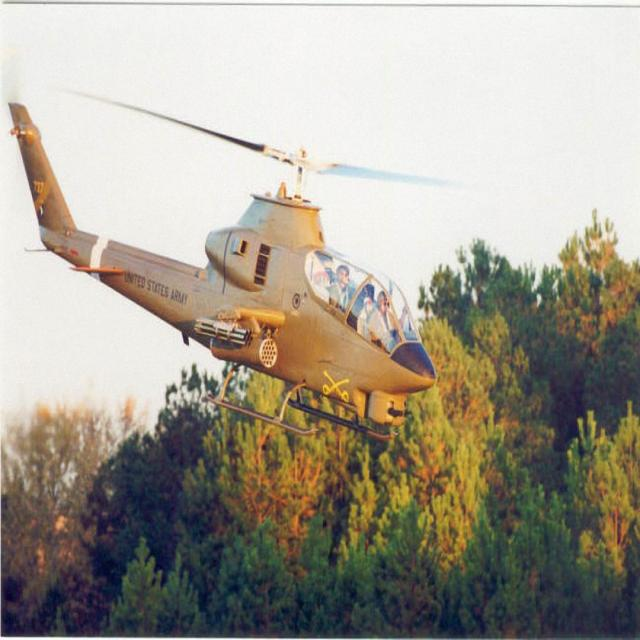MIL_HELO: (0, 70, 516, 463)
